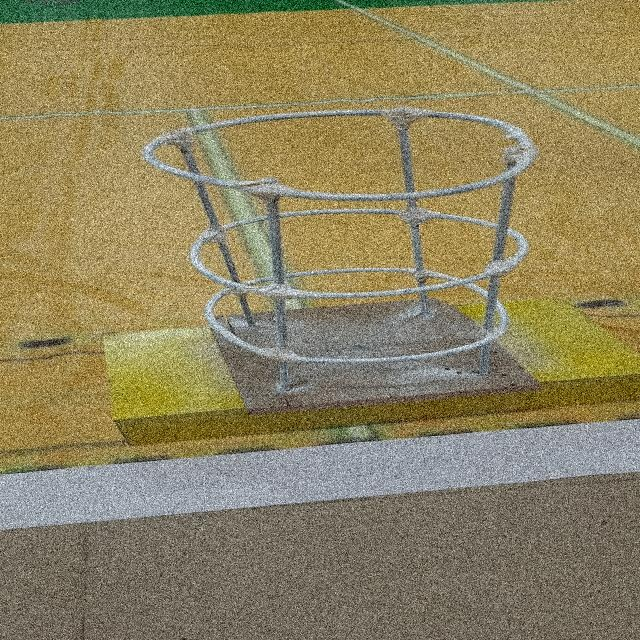silo: (93, 88, 605, 426)
